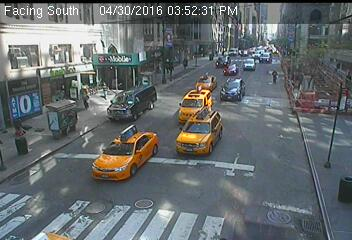neg: (87, 197, 105, 222), (11, 135, 28, 158), (261, 93, 277, 115), (121, 98, 137, 119), (301, 98, 317, 119), (189, 82, 201, 98), (18, 120, 27, 132), (140, 72, 149, 83), (207, 51, 215, 62)
pos: (77, 90, 93, 111), (99, 83, 112, 101), (269, 68, 282, 85), (181, 57, 191, 71)
